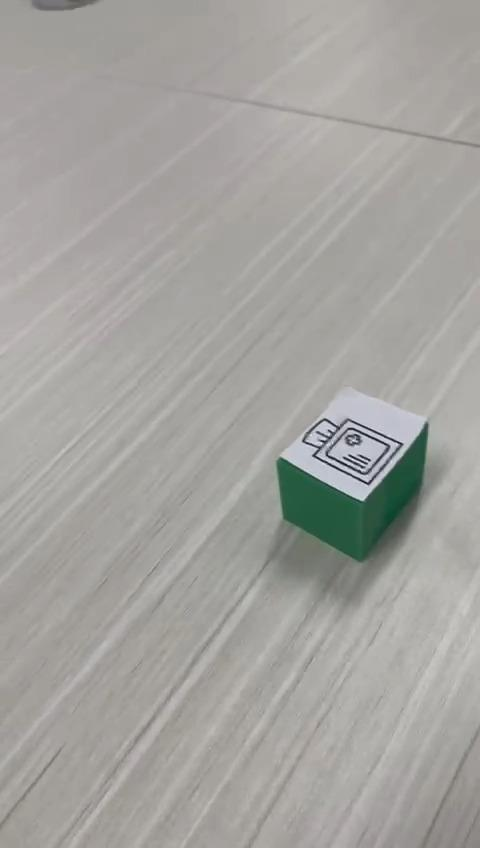Gauze: (275, 384, 429, 562)
